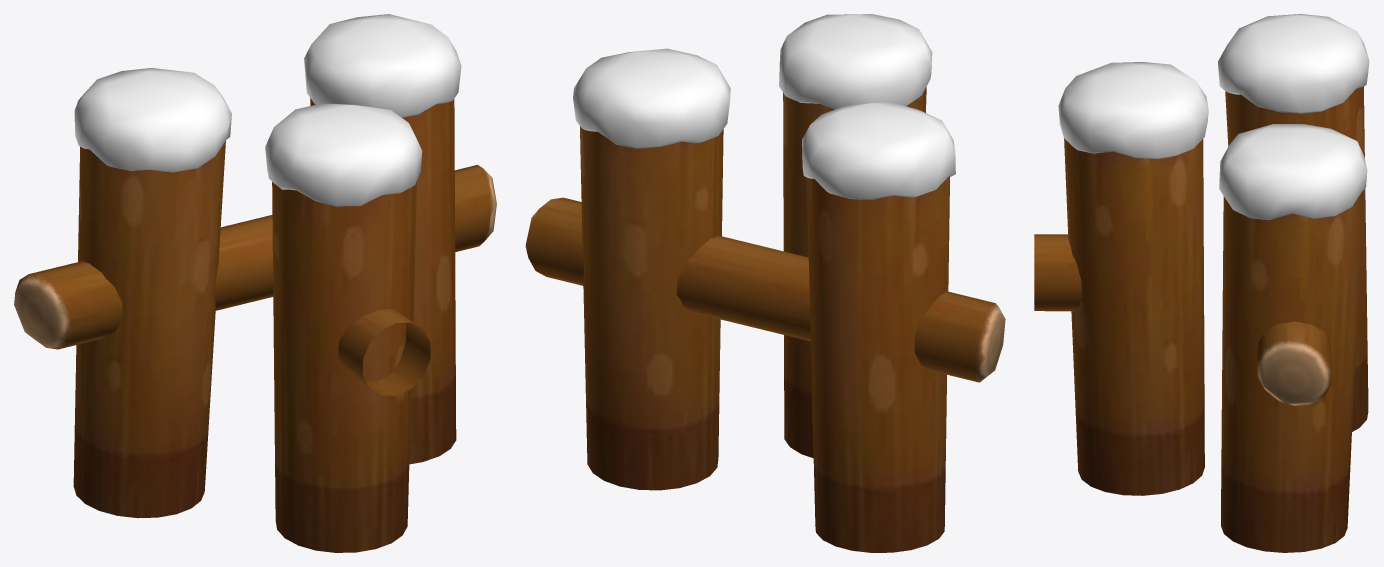
File: fence-country-i.glb
3 views of the same model, side by side, from view 1: azimuth 30°, elevation 25°; view 2: azimuth 150°, elevation 25°; view 3: azimuth 270°, elevation 25° (orthographic). The views are drawn at different scales.
Visible parts, largest first — view 1: FenceLog__FenceLog_I_node1, FenceLog__FenceLog_I_node2; view 2: FenceLog__FenceLog_I_node1, FenceLog__FenceLog_I_node2; view 3: FenceLog__FenceLog_I_node1, FenceLog__FenceLog_I_node2.
Boxes of the visible parts, x1,y1,x2,y2 form: FenceLog__FenceLog_I_node1: (14, 98, 496, 552); FenceLog__FenceLog_I_node2: (74, 14, 461, 206); FenceLog__FenceLog_I_node1: (525, 87, 1005, 552); FenceLog__FenceLog_I_node2: (573, 14, 955, 199); FenceLog__FenceLog_I_node1: (1034, 86, 1368, 552); FenceLog__FenceLog_I_node2: (1058, 14, 1369, 219).
Bounding box in the file's own units: 0.9904 × 0.8346 × 0.6486.
Materials: 2 (1 with a texture image).
